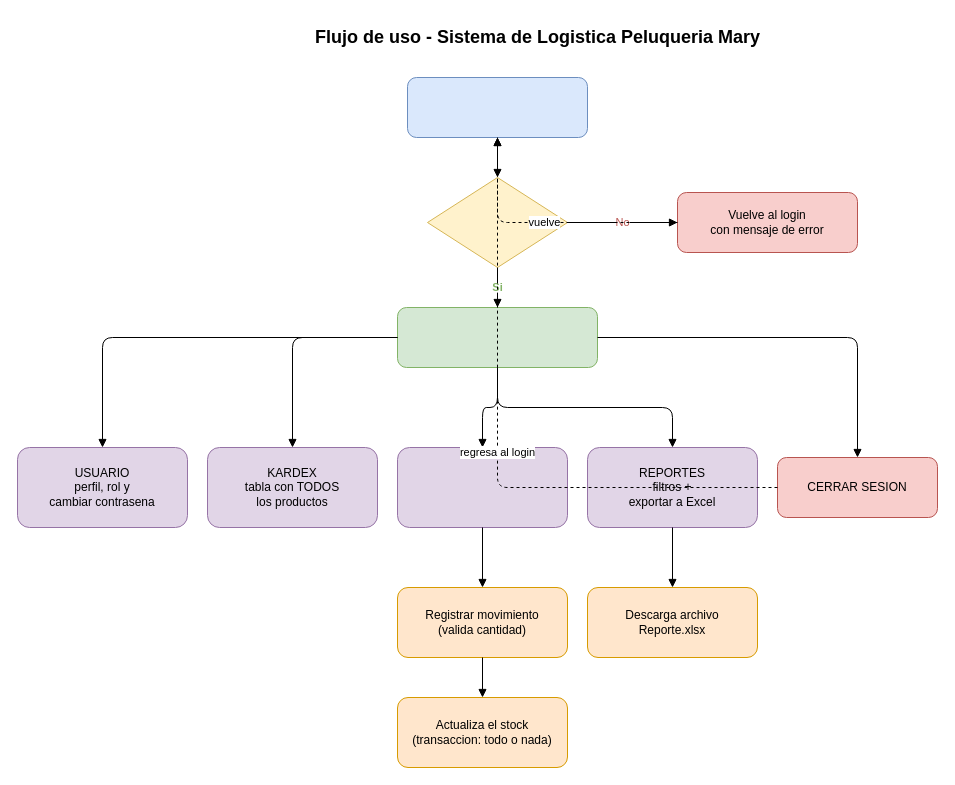
Image size: 955x785. Some labels were removed from this diagram. The box of each missing label's shape, as (x1, y1, x2, y2) in pixels:
Credenciales correctas?: (426, 176, 568, 268)
DASHBOARD KPIs + ultimos movimientos: (396, 306, 598, 368)
LOGIN usuario + contrasena: (406, 76, 588, 138)
PRODUCTOS buscar / crear / ingreso / salida: (396, 446, 568, 528)
